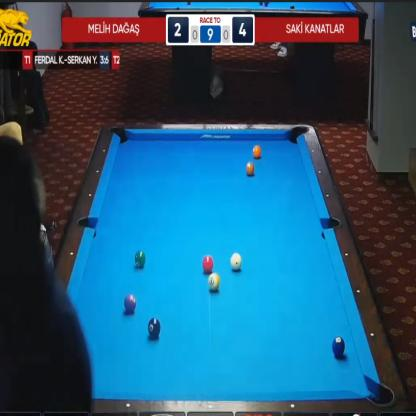Ball: (332, 335, 345, 357), (148, 318, 161, 338), (230, 252, 242, 271), (124, 294, 136, 313), (202, 255, 214, 273), (208, 272, 220, 290), (135, 249, 146, 268), (252, 144, 262, 158), (245, 162, 255, 176)
